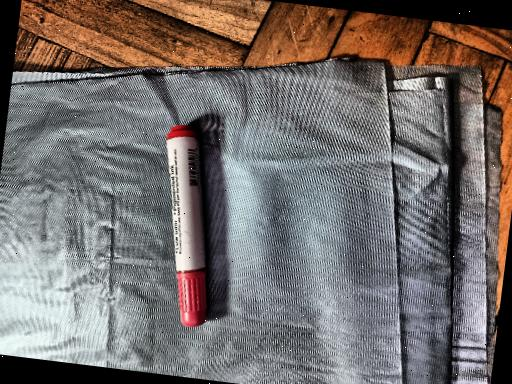marcador rojo: (167, 126, 207, 325)
